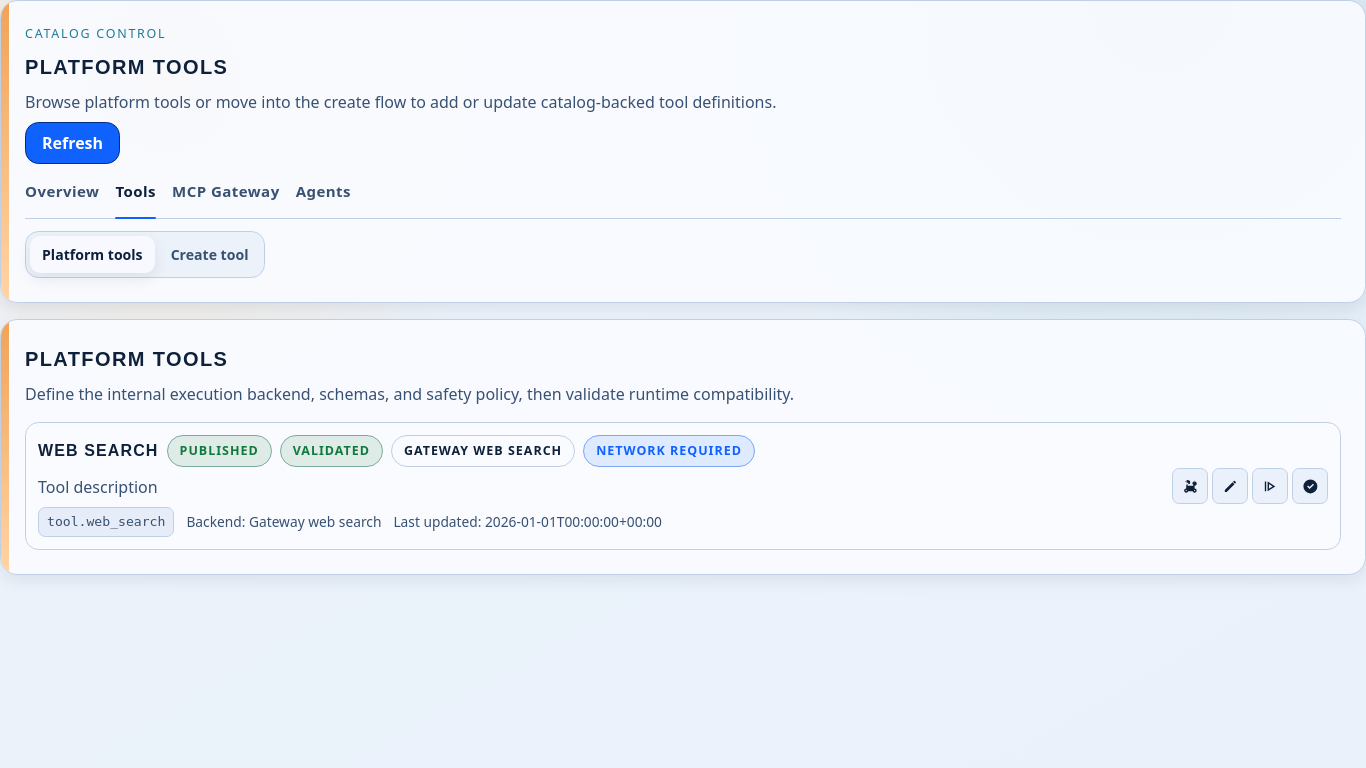
it: CatalogControlPage › validates a tool and renders validation errors
Click the button named "Validate Web search": point(1310, 486) [1292,468,1328,504]
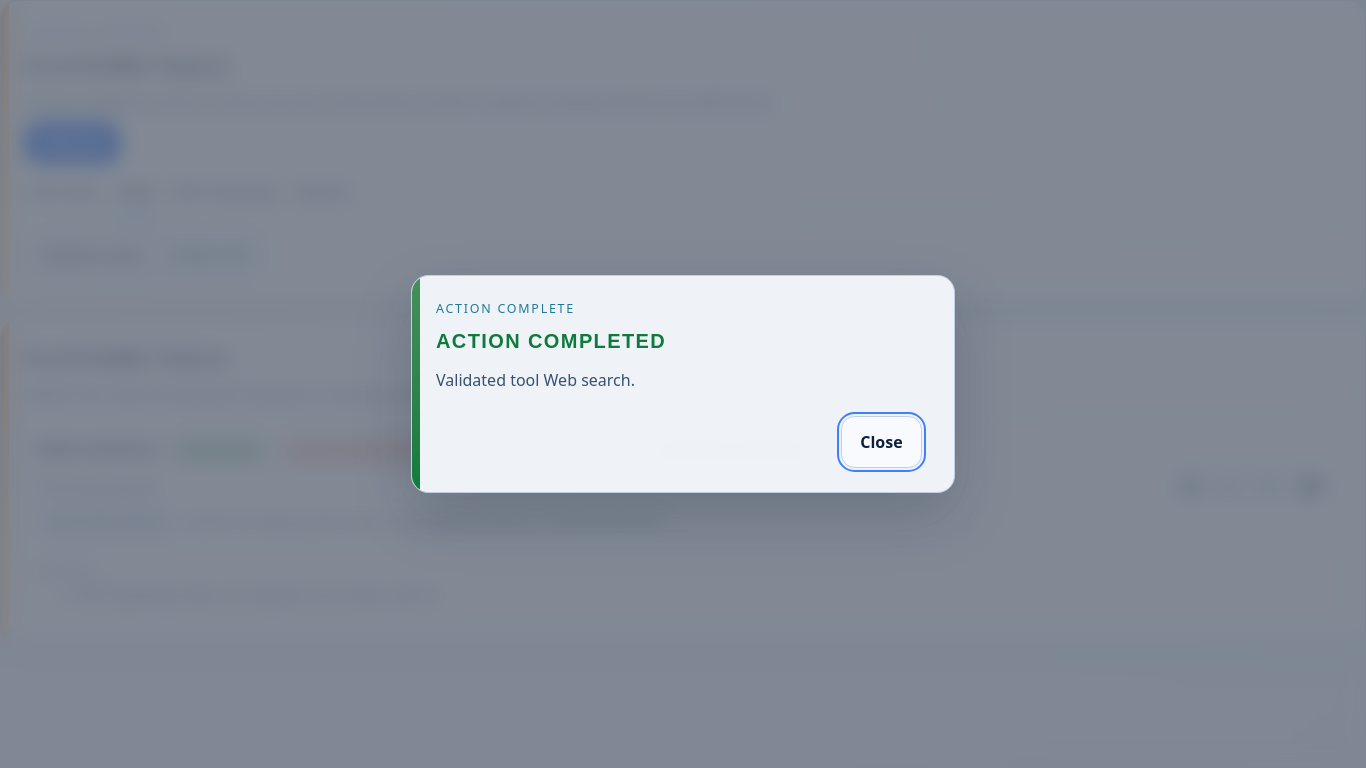
Result: the dialog is shown at [411,274,955,493]
